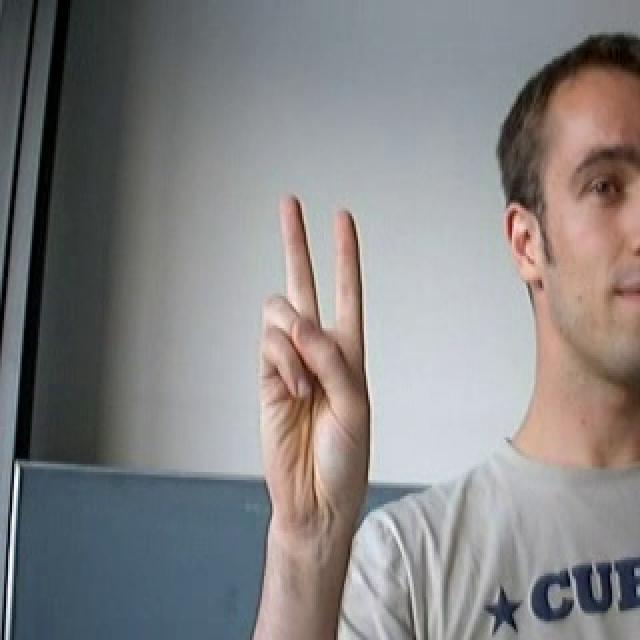V: (228, 158, 394, 539)
